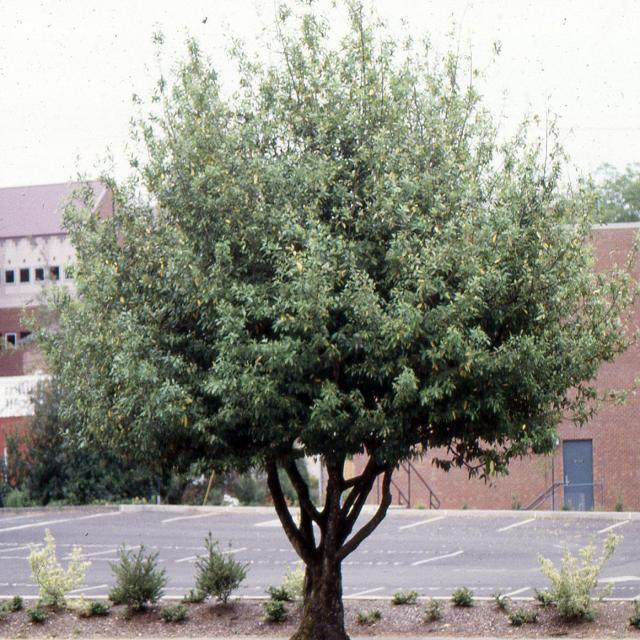Umbellularia californica: (19, 20, 634, 638)
